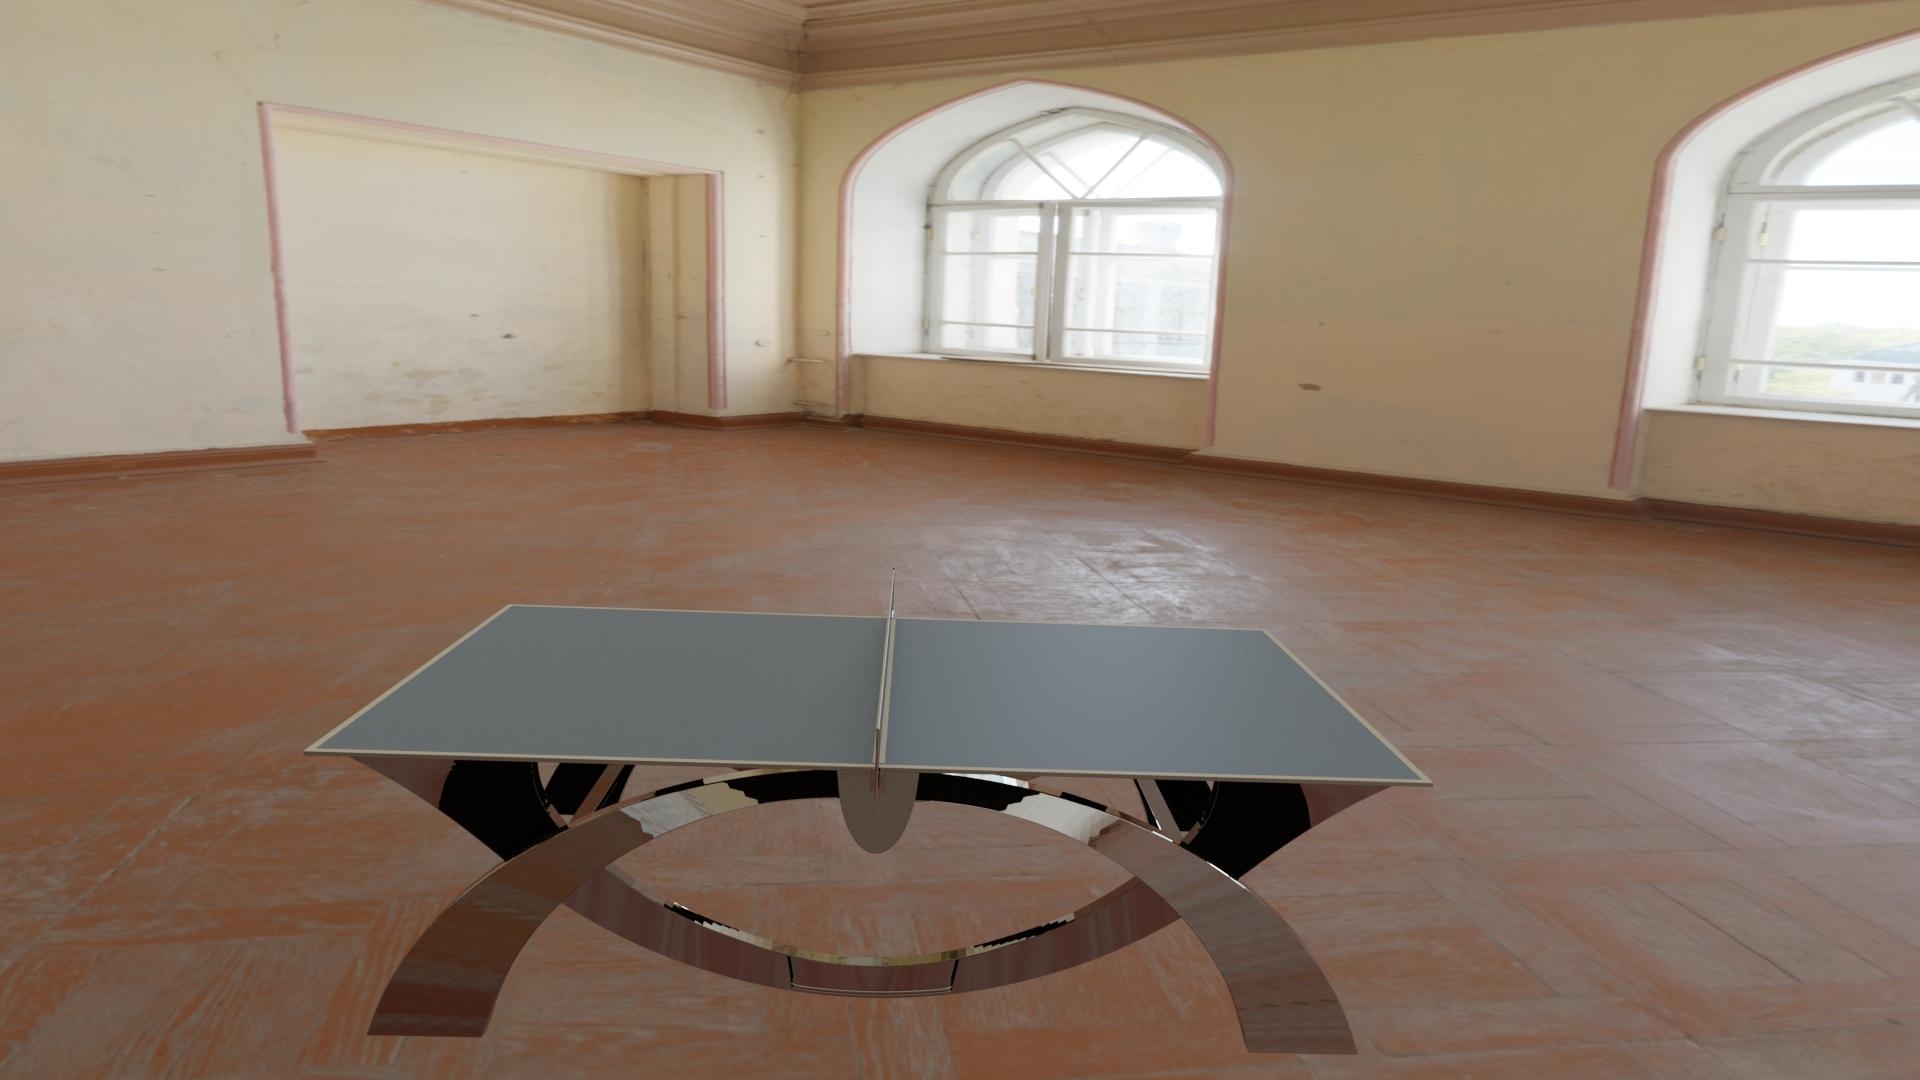table: (315, 605, 1423, 779)
